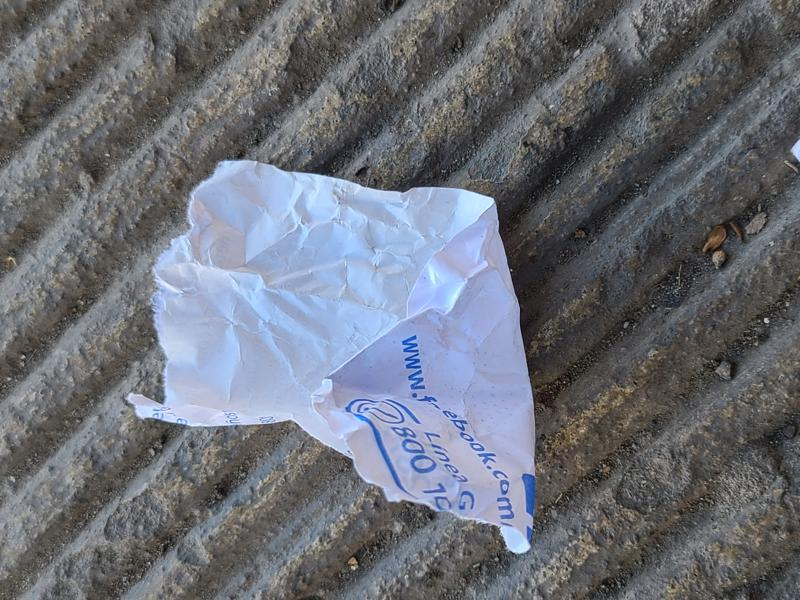papel: (125, 160, 539, 555)
